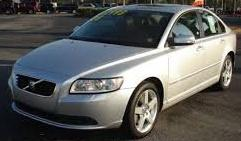Cars: (8, 4, 236, 137)
